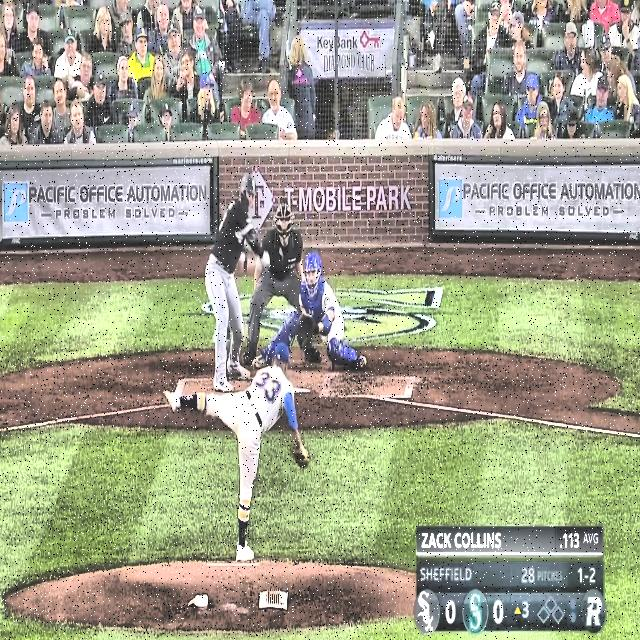baseball: (274, 309, 281, 320)
